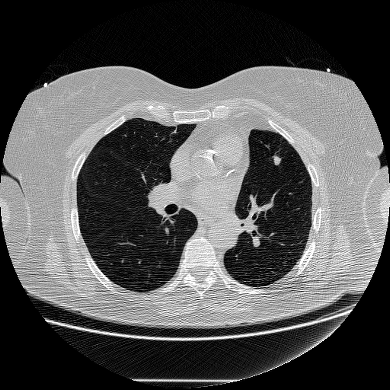nodule: (273, 157, 281, 165)
